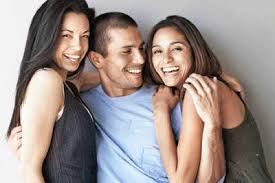face: (148, 38, 199, 87), (107, 35, 145, 93), (57, 17, 93, 73)
